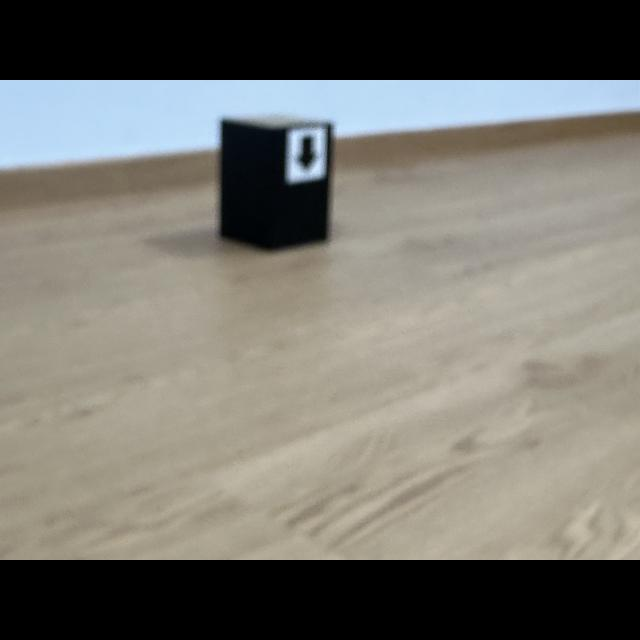DOWN: (295, 135, 317, 170)
